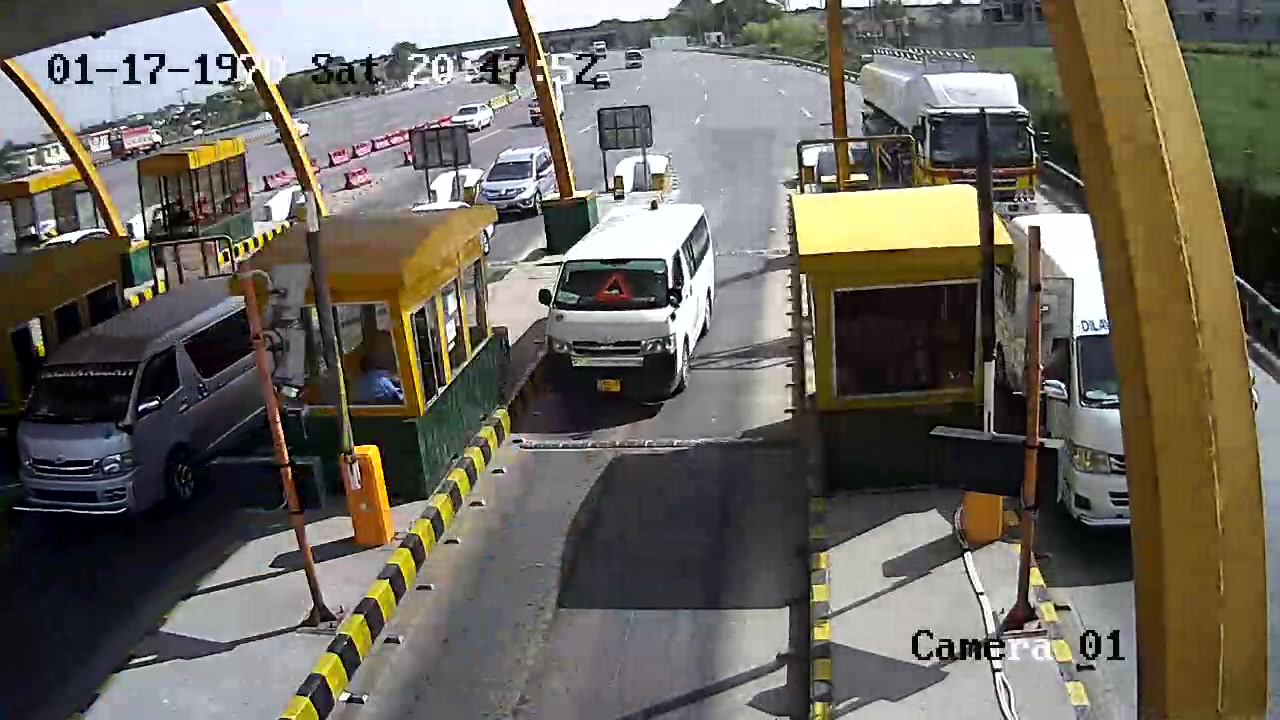F3: (543, 196, 721, 409)
